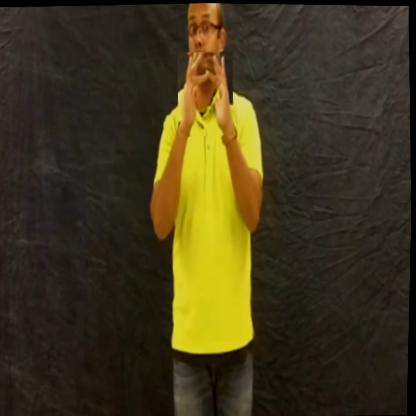Internet: (176, 50, 236, 137)
